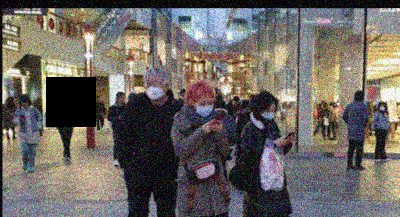with_mask: (144, 78, 166, 100), (194, 98, 214, 117), (261, 107, 276, 120), (378, 104, 386, 110), (96, 97, 100, 100)
without_mask: (118, 95, 126, 102), (231, 100, 239, 107), (20, 100, 28, 106)
